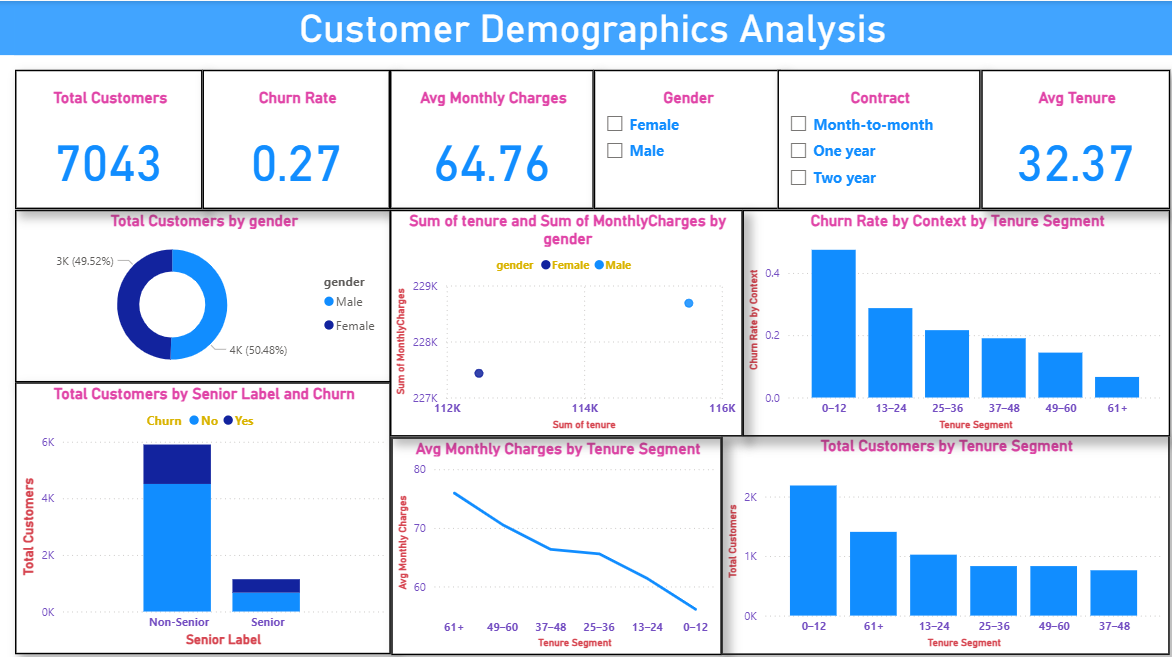

Layout of this report page (visuals, bound fields, positions):
{"tool":"powerbi","page":{"name":"Page 1","canvas":[1280,720],"ordinal":0},"visuals":[{"type":"textbox","title":"Customer Demographics Analysis","box":[0,0,1280,59.7],"z":0},{"type":"donutChart","fields":{"Category":["WA_Fn-UseC_-Telco-Customer-Churn.gender"],"Y":["CustomerChurnAnalysis.Total Customers"]},"box":[16.2,225.2,405.5,186.6],"z":1000},{"type":"columnChart","fields":{"Series":["WA_Fn-UseC_-Telco-Customer-Churn.Churn"],"Category":["CustomerChurnAnalysis.Senior Label"],"Y":["CustomerChurnAnalysis.Total Customers"]},"box":[16.2,411.8,405.5,293.6],"z":2000},{"type":"clusteredColumnChart","fields":{"Category":["CustomerChurnAnalysis.Tenure Segment"],"Y":["CustomerChurnAnalysis.Total Customers"]},"box":[778.7,467.7,483.9,237.6],"z":3000},{"type":"card","title":"Total Customers","fields":{"Values":["CustomerChurnAnalysis.Total Customers"]},"box":[16.2,74.6,202.8,150.5],"z":4000},{"type":"card","title":"Churn Rate","fields":{"Values":["CustomerChurnAnalysis.Churn Rate"]},"box":[218.9,74.6,202.8,150.5],"z":5000},{"type":"card","title":"Avg Monthly Charges","fields":{"Values":["CustomerChurnAnalysis.Avg Monthly Charges"]},"box":[420.5,74.6,220.2,150.5],"z":6000},{"type":"slicer","title":"Gender","fields":{"Values":["CustomerChurnAnalysis.gender"]},"box":[640.6,74.6,201.5,150.5],"z":7000},{"type":"slicer","title":"Contract","fields":{"Values":["CustomerChurnAnalysis.Contract"]},"box":[839.7,74.6,218.9,150.5],"z":8000},{"type":"clusteredColumnChart","fields":{"Y":["CustomerChurnAnalysis.Churn Rate by Context"],"Category":["CustomerChurnAnalysis.Tenure Segment"]},"box":[801.1,225.2,461.5,245.1],"z":9000},{"type":"lineChart","fields":{"Y":["CustomerChurnAnalysis.Avg Monthly Charges"],"Category":["CustomerChurnAnalysis.Tenure Segment"]},"box":[421.7,470.2,357,235.1],"z":10000},{"type":"scatterChart","fields":{"Series":["CustomerChurnAnalysis.gender"],"X":["Sum(CustomerChurnAnalysis.tenure)"],"Y":["Sum(CustomerChurnAnalysis.MonthlyCharges)"]},"box":[420.5,225.2,380.7,245.1],"z":11000},{"type":"card","title":"Avg Tenure","fields":{"Values":["CustomerChurnAnalysis.Avg Tenure"]},"box":[1058.6,74.6,204,150.5],"z":12000}]}

Visuals, with their boxes in screenshot pixels (x1, y1, x2, y2), scaled from the page's 1280x720 canvas onto the 1172x657 screenshot:
"Customer Demographics Analysis" textbox: region(0, 0, 1171, 54)
donutChart - WA_Fn-UseC_-Telco-Customer-Churn.gender x CustomerChurnAnalysis.Total Customers: region(15, 205, 386, 376)
columnChart - WA_Fn-UseC_-Telco-Customer-Churn.Churn x CustomerChurnAnalysis.Senior Label: region(15, 376, 386, 644)
clusteredColumnChart - CustomerChurnAnalysis.Tenure Segment x CustomerChurnAnalysis.Total Customers: region(713, 427, 1156, 644)
"Total Customers" card: region(15, 68, 201, 205)
"Churn Rate" card: region(200, 68, 386, 205)
"Avg Monthly Charges" card: region(385, 68, 587, 205)
"Gender" slicer: region(587, 68, 771, 205)
"Contract" slicer: region(769, 68, 969, 205)
clusteredColumnChart - CustomerChurnAnalysis.Churn Rate by Context x CustomerChurnAnalysis.Tenure Segment: region(734, 205, 1156, 429)
lineChart - CustomerChurnAnalysis.Avg Monthly Charges x CustomerChurnAnalysis.Tenure Segment: region(386, 429, 713, 644)
scatterChart - CustomerChurnAnalysis.gender x Sum(CustomerChurnAnalysis.tenure): region(385, 205, 734, 429)
"Avg Tenure" card: region(969, 68, 1156, 205)
